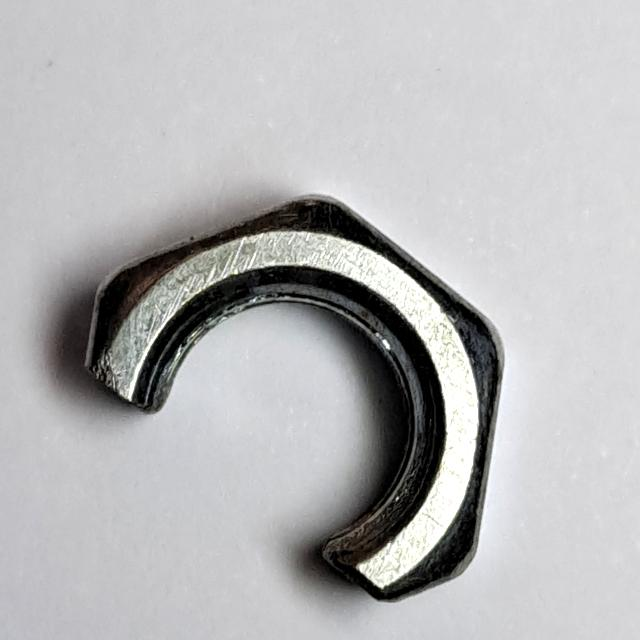Fracture: (74, 181, 513, 615)
